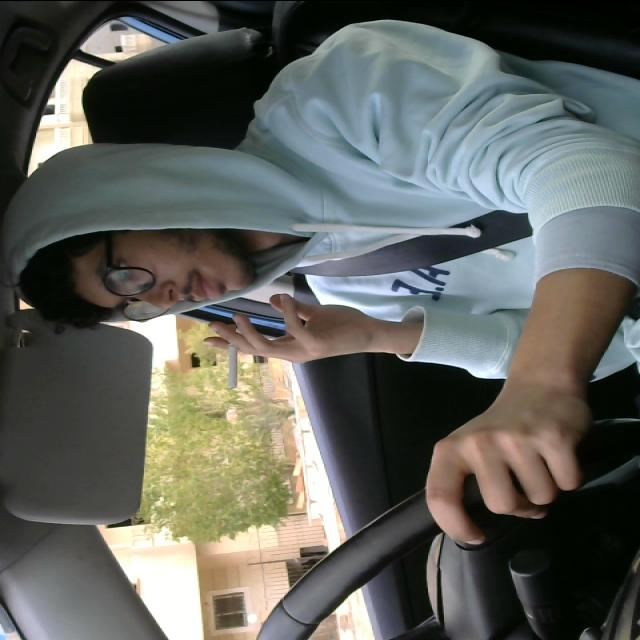smoking: (225, 318, 242, 391)
